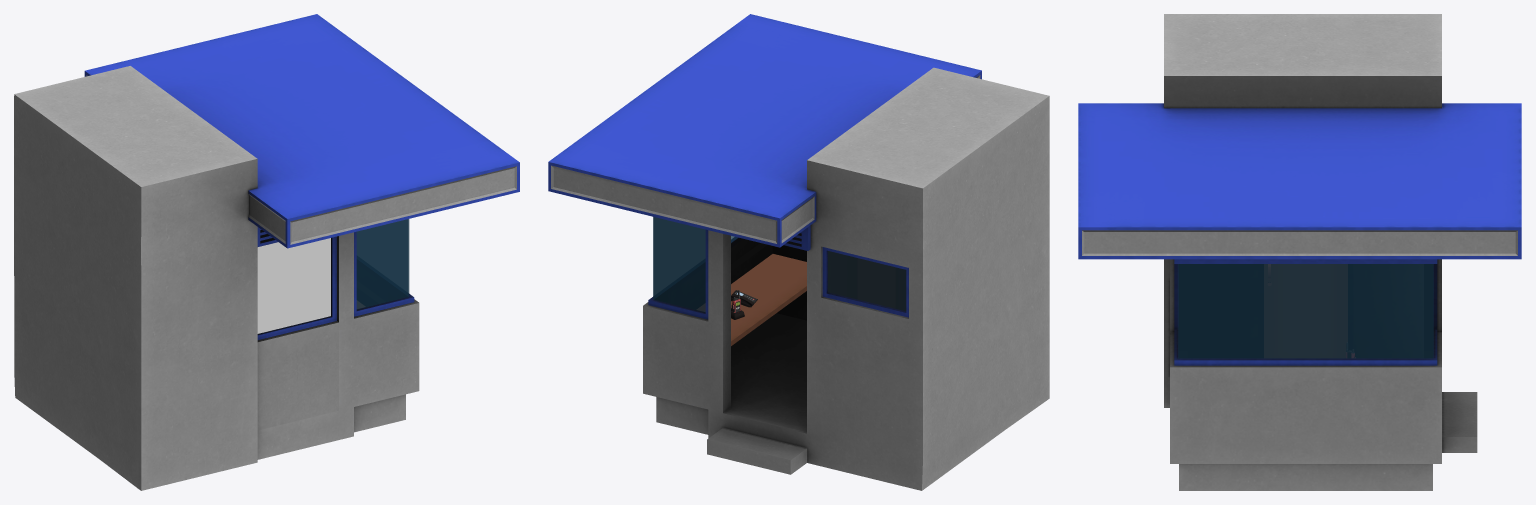
File: Caseta Celador.FBX
3 views of the same model, side by side, from view 1: azimuth 30°, elevation 25°; view 2: azimuth 150°, elevation 25°; view 3: azimuth 270°, elevation 25° (orthographic). The views are drawn at different scales.
Visible parts, largest first — view 1: Caseta, Techo, pared, detalle_techo, vidrio_1, vidrio_2, ventanas_1; view 2: Caseta, Techo, detalle_techo, vidrio_2, mesa, vidrio_3, ventana_2, ventanas_1; view 3: Caseta, Techo, vidrio_2, detalle_techo, Puerta, ventanas_1, marco.
Boxes of the visible parts, bbox=[...] form: Caseta: bbox=[14, 66, 419, 490]; Techo: bbox=[84, 14, 519, 248]; pared: bbox=[257, 321, 338, 430]; detalle_techo: bbox=[86, 75, 516, 244]; vidrio_1: bbox=[257, 238, 330, 333]; vidrio_2: bbox=[356, 219, 409, 309]; ventanas_1: bbox=[257, 231, 414, 339]; Caseta: bbox=[643, 67, 1049, 490]; Techo: bbox=[548, 14, 981, 247]; detalle_techo: bbox=[551, 75, 980, 243]; vidrio_2: bbox=[653, 217, 737, 312]; mesa: bbox=[697, 254, 806, 345]; vidrio_3: bbox=[828, 251, 906, 311]; ventana_2: bbox=[822, 247, 908, 317]; ventanas_1: bbox=[648, 229, 743, 319]; Caseta: bbox=[1164, 14, 1477, 490]; Techo: bbox=[1078, 103, 1521, 259]; vidrio_2: bbox=[1177, 264, 1433, 358]; detalle_techo: bbox=[1082, 230, 1517, 255]; Puerta: bbox=[1264, 264, 1347, 357]; ventanas_1: bbox=[1174, 259, 1437, 365]; marco: bbox=[1259, 264, 1352, 357].
Bounding box in the file's own units: 3.47 × 2.97 × 3.59.
6 materials, 4 textured.
